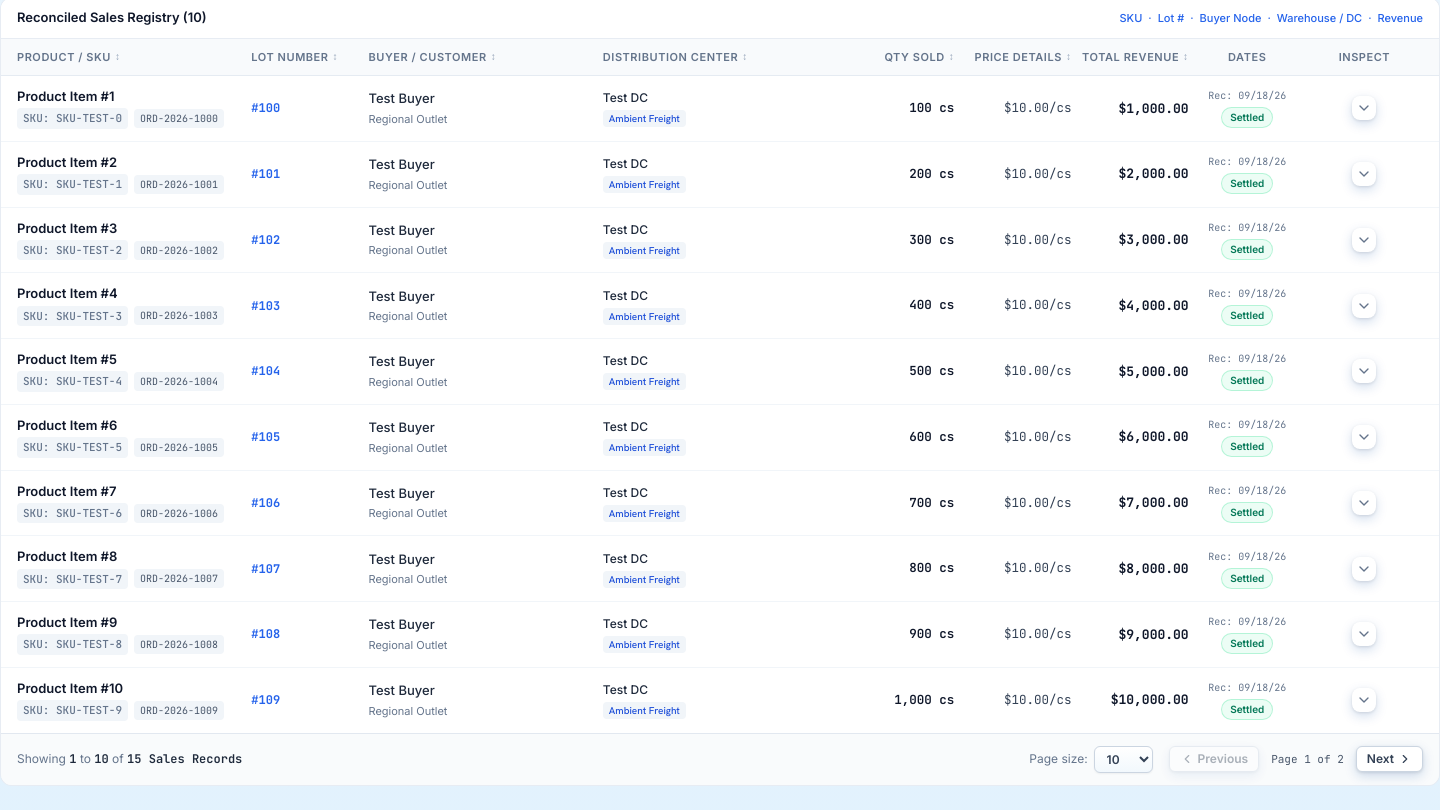
Test case: Issue #0122: Slice 4 - Sales Pipeline Modern Grid & Progressive Inspection Drawer › 5. Pagination › handles pagination properly when sales records exceed page size
(page scrolled)
Expected: the text "Product Item #1" is shown, [17, 88, 114, 104]
Expected: the text "Product Item #10" is shown, [17, 680, 123, 696]
Click the button "Next". click: [1389, 759]
box: [1356, 746, 1423, 772]
(page scrolled)
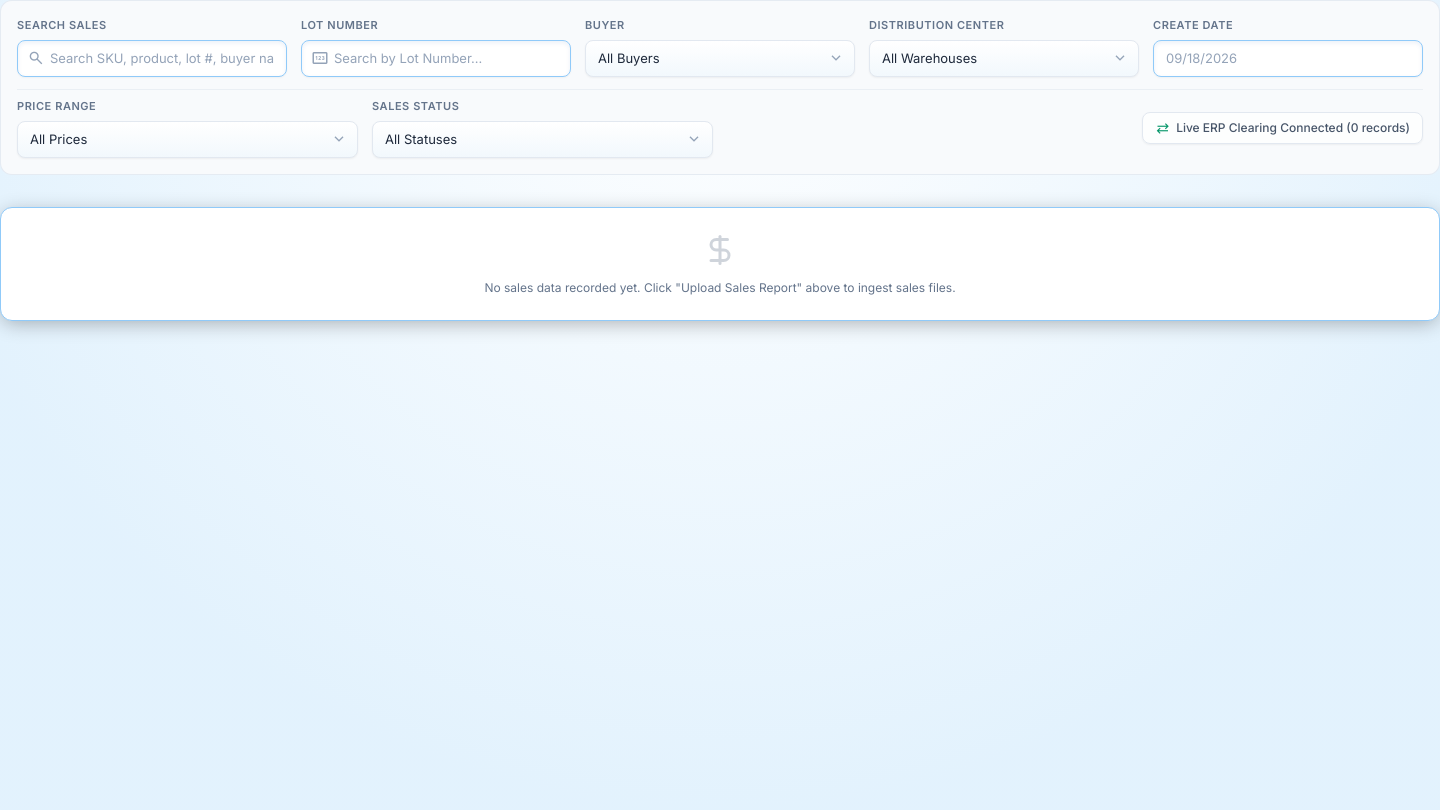
Result: the text "Product Item #1" is gone
